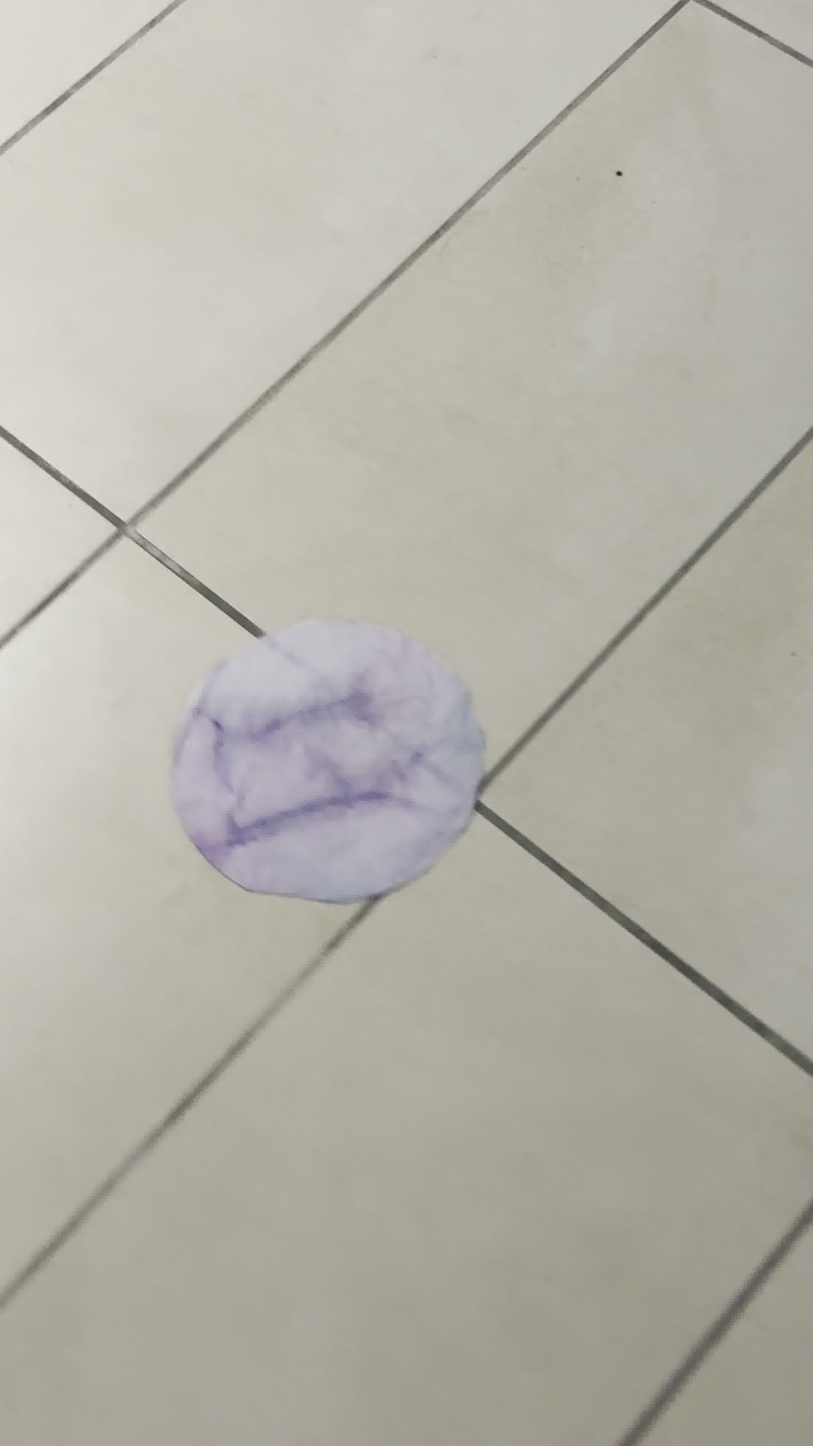Target: (172, 618, 489, 900)
